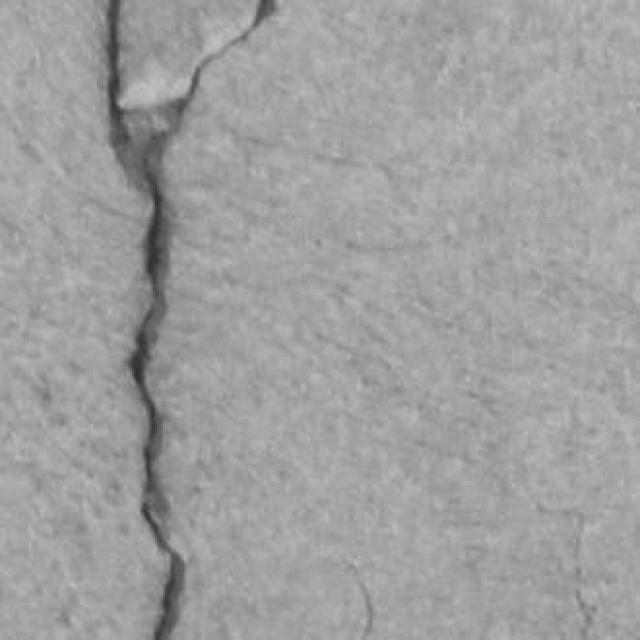crack: (107, 0, 275, 639), (575, 514, 597, 639), (348, 563, 374, 639)
